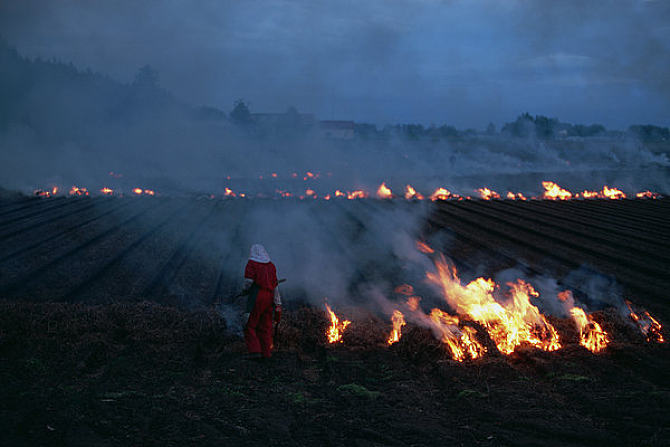fire: (421, 250, 560, 347), (565, 304, 620, 353), (319, 303, 350, 348), (380, 309, 406, 352), (578, 186, 632, 205), (540, 173, 572, 200), (426, 185, 472, 202), (404, 183, 427, 199), (374, 180, 392, 197)
